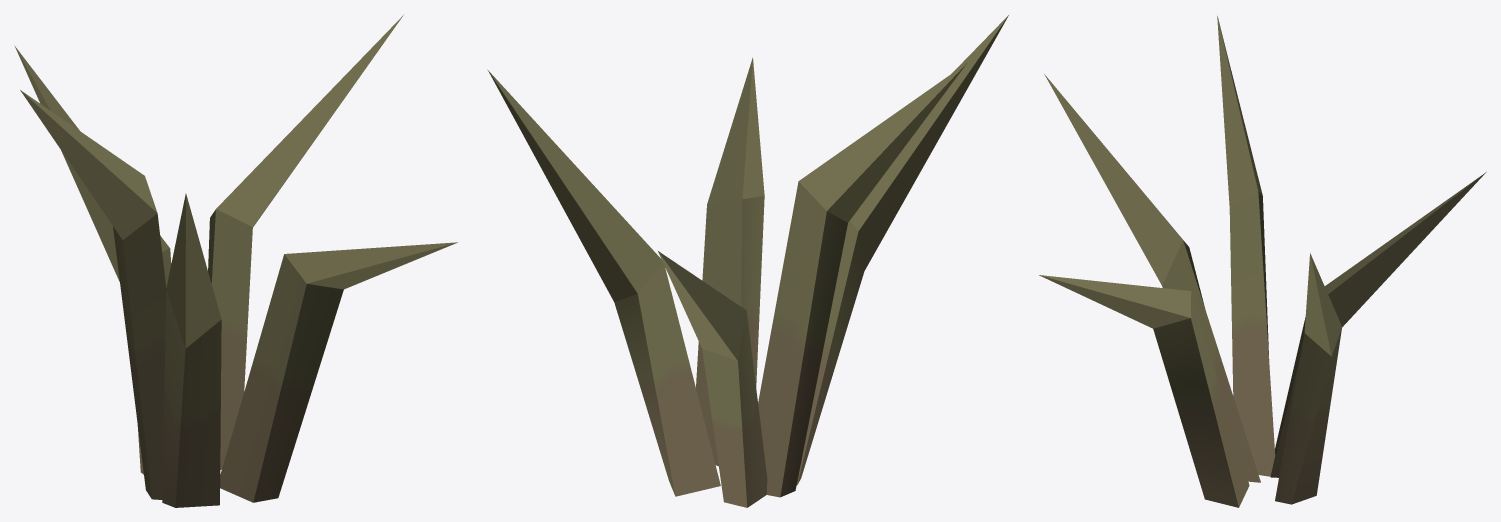
Rendered from SM_Env_Grass_01.fbx.
The picture shows the model from 3 angles, left to right: view 1: azimuth 30°, elevation 25°; view 2: azimuth 150°, elevation 25°; view 3: azimuth 270°, elevation 25°; orthographic projection. The views are drawn at different scales.
Visible parts, largest first — view 1: SM_Env_Grass_01; view 2: SM_Env_Grass_01; view 3: SM_Env_Grass_01.
Boxes of the visible parts, x1,y1,x2,y2 form: SM_Env_Grass_01: [14, 15, 457, 507]; SM_Env_Grass_01: [487, 15, 1008, 507]; SM_Env_Grass_01: [1039, 16, 1486, 507].
Bounding box in the file's own units: 86.68 × 87.24 × 92.43.
